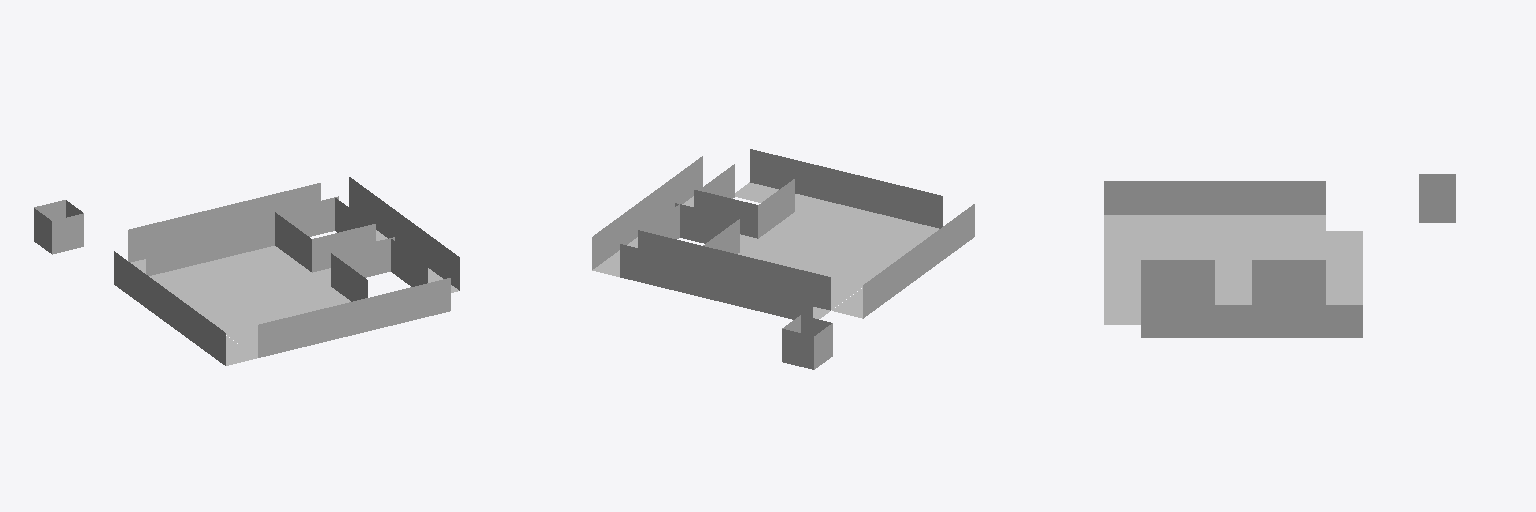
Rendered from maze00.obj.
The picture shows the model from 3 angles: view 1: azimuth 30°, elevation 25°; view 2: azimuth 150°, elevation 25°; view 3: azimuth 270°, elevation 25°; orthographic projection.
Visible parts, largest first — view 1: Cube, Cube.001; view 2: Cube, Cube.001; view 3: Cube, Cube.001.
Part boxes in pixels (x1,y1,x2,y2): Cube: (114,177,459,365); Cube.001: (34,200,83,254); Cube: (592,149,974,319); Cube.001: (782,315,832,369); Cube: (1104,181,1362,337); Cube.001: (1419,174,1455,222).
Bounding box in the file's own units: 16.72 × 2 × 19.